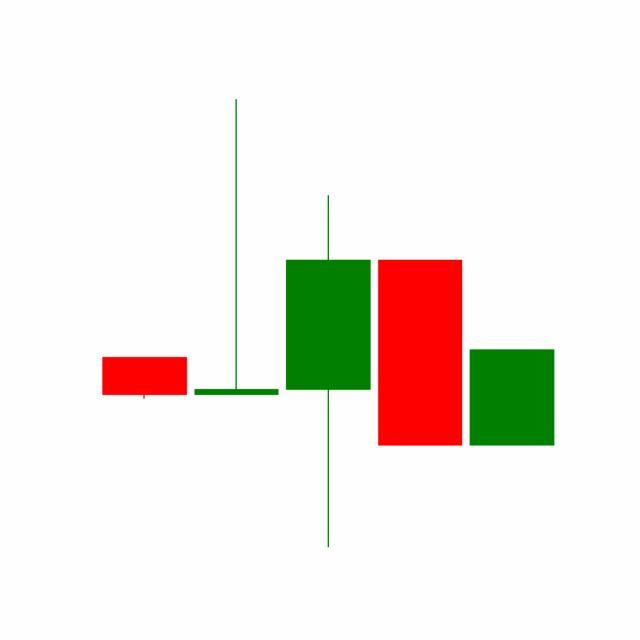Marubozu: (374, 258, 468, 448)
